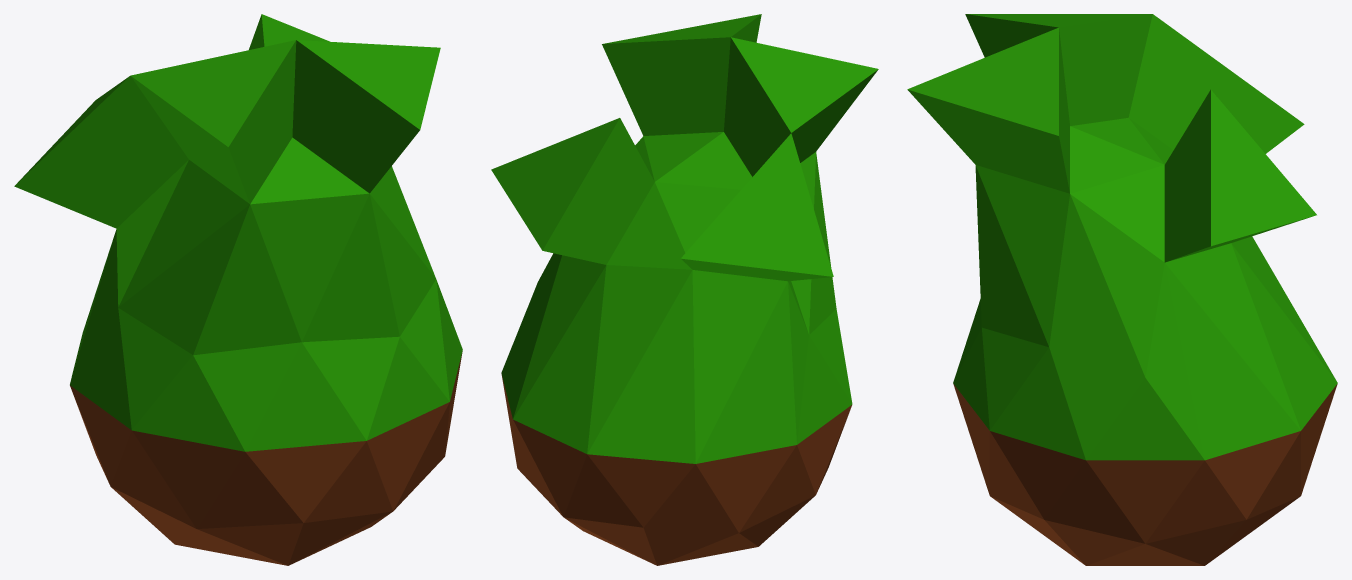
Rendered from tree4.fbx.
3 renders of one model, left to right at view 1: azimuth 30°, elevation 25°; view 2: azimuth 150°, elevation 25°; view 3: azimuth 270°, elevation 25°, orthographic. The views are drawn at different scales.
Parts seen in each view (by area): view 1: Icosphere; view 2: Icosphere; view 3: Icosphere.
Boxes of the visible parts, x1,y1,x2,y2 form: Icosphere: [14, 14, 462, 565]; Icosphere: [491, 14, 878, 565]; Icosphere: [907, 14, 1337, 565].
Bounding box in the file's own units: 223 × 300 × 224.
